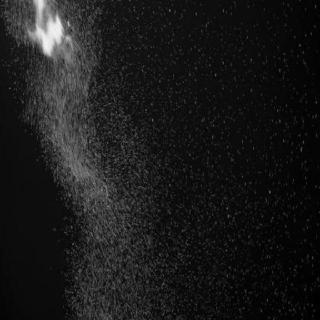Fire: (0, 1, 158, 320)
